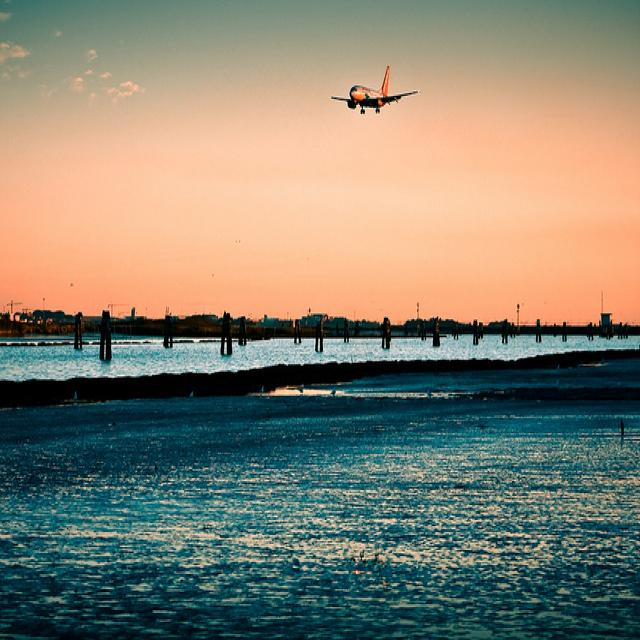airplane: (328, 62, 422, 119)
